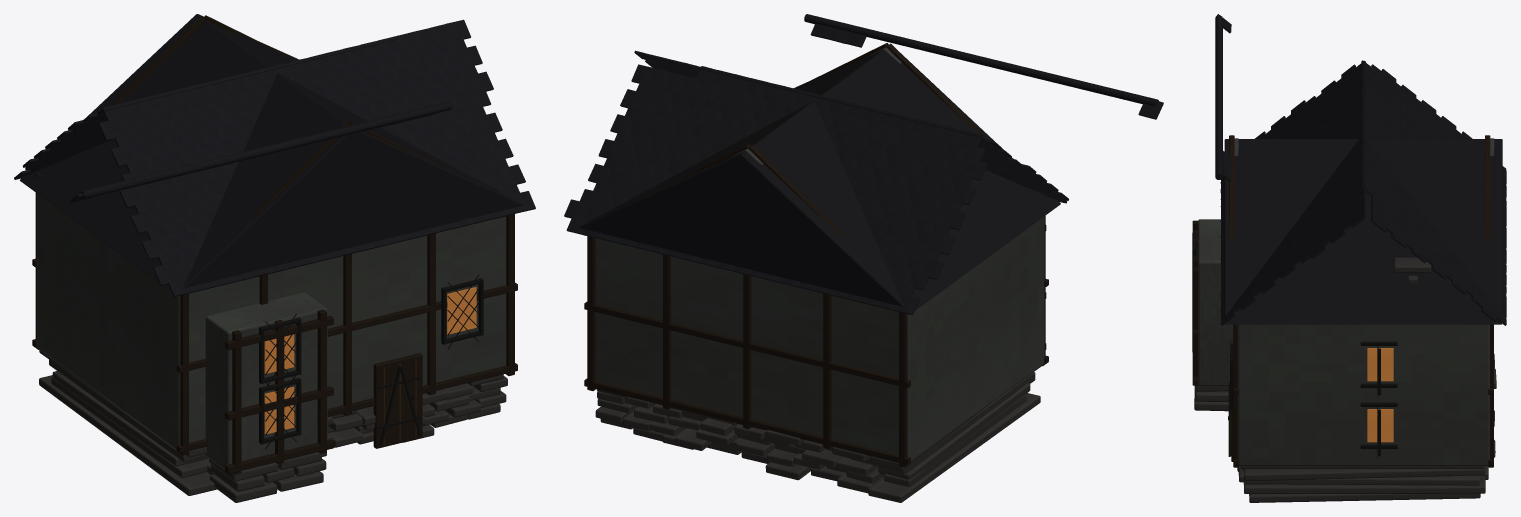
File: prop_town_house_2.glb
3 views of the same model, side by side, from view 1: azimuth 30°, elevation 25°; view 2: azimuth 150°, elevation 25°; view 3: azimuth 270°, elevation 25° (orthographic). The views are drawn at different scales.
Visible parts, largest first — view 1: slate, plaster, oak, stone, iron, glass; view 2: slate, plaster, stone, oak; view 3: slate, plaster, stone, oak, iron, glass.
Boxes of the visible parts, left/top/right/bottom form: slate: left=14, top=14, right=535, bottom=296; plaster: left=37, top=16, right=506, bottom=469; oak: left=32, top=15, right=517, bottom=474; stone: left=39, top=350, right=507, bottom=502; iron: left=259, top=274, right=483, bottom=449; glass: left=264, top=287, right=476, bottom=434; slate: left=564, top=14, right=1163, bottom=315; plaster: left=595, top=47, right=1044, bottom=461; stone: left=595, top=372, right=1040, bottom=502; oak: left=584, top=43, right=1048, bottom=467; slate: left=1215, top=14, right=1506, bottom=325; plaster: left=1198, top=138, right=1494, bottom=465; stone: left=1194, top=257, right=1496, bottom=502; oak: left=1192, top=135, right=1493, bottom=467; iron: left=1192, top=229, right=1397, bottom=458; glass: left=1367, top=348, right=1393, bottom=442.
Bounding box in the file's own units: 17.08 × 11.82 × 11.2.
Materials: 7 (7 with a texture image).
